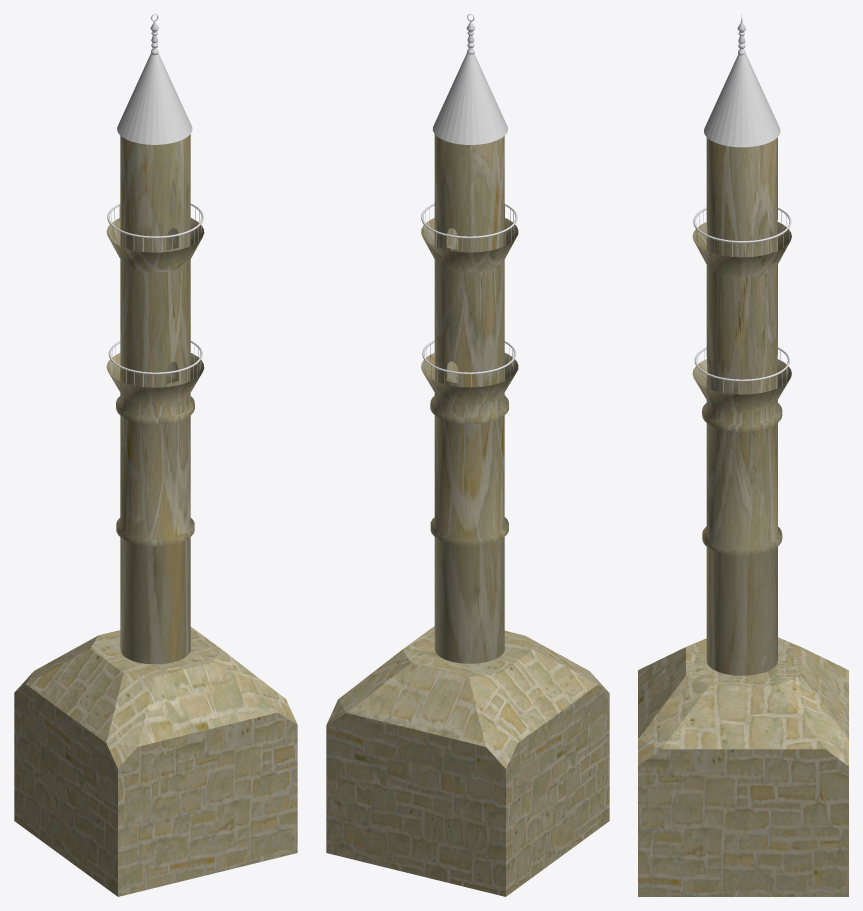
File: Puzzle1Minaret.fbx
The picture shows the model from 3 angles, left to right: view 1: azimuth 30°, elevation 25°; view 2: azimuth 150°, elevation 25°; view 3: azimuth 270°, elevation 25°; orthographic projection.
Parts seen in each view (by area): view 1: Cube.005, Cylinder.002, Cone, Torus.003, Torus.001; view 2: Cube.005, Cylinder.002, Cone, Torus.003, Torus.001; view 3: Cube.005, Cylinder.002, Cone, Torus.003, Torus.001.
Boxes of the visible parts, x1,y1,x2,y2 form: Cube.005: (14, 627, 297, 896); Cylinder.002: (106, 134, 204, 664); Cone: (117, 53, 192, 144); Torus.003: (107, 203, 203, 252); Torus.001: (108, 340, 202, 387); Cube.005: (326, 626, 609, 896); Cylinder.002: (421, 134, 518, 663); Cone: (432, 53, 507, 144); Torus.003: (421, 203, 517, 252); Torus.001: (422, 340, 516, 387); Cube.005: (638, 637, 848, 896); Cylinder.002: (692, 137, 791, 675); Cone: (704, 54, 780, 147); Torus.003: (693, 207, 791, 256); Torus.001: (694, 347, 790, 394).
Bounding box in the file's own units: 592 × 2589 × 591.
